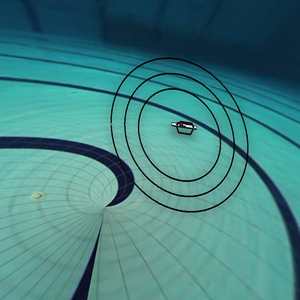circle: (94, 51, 262, 224)
submarine: (165, 114, 205, 149)
